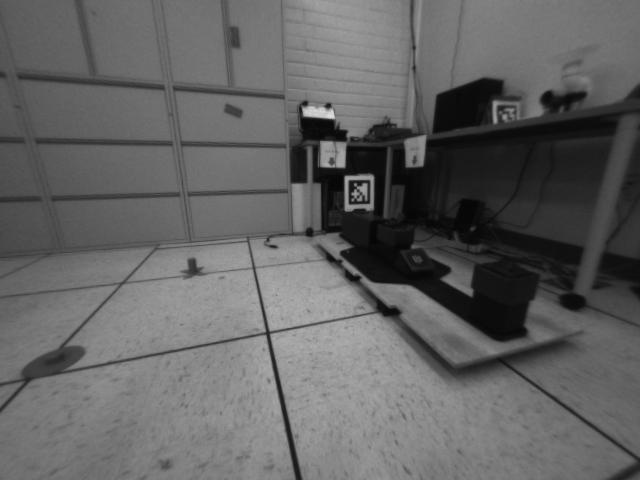X: (179, 256, 208, 280)
